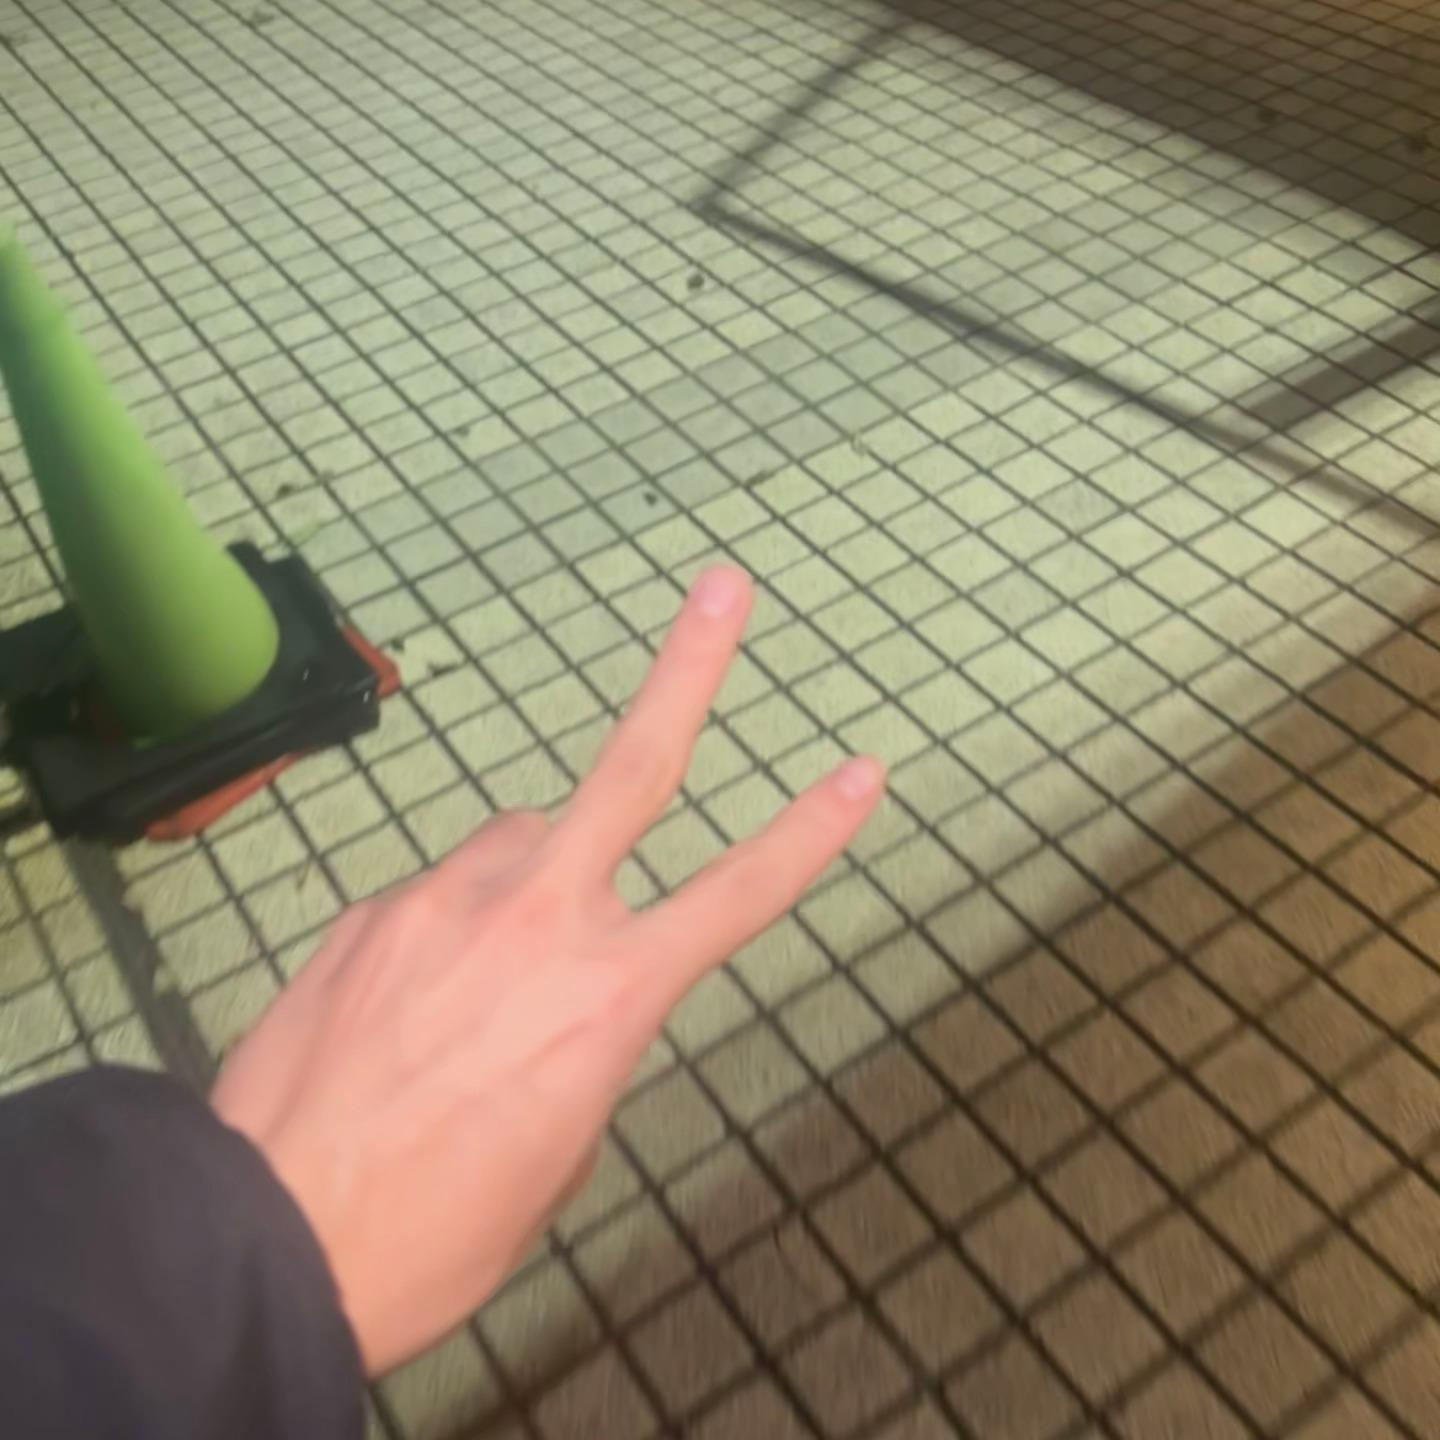without_gloves: (257, 443, 1039, 1324)
